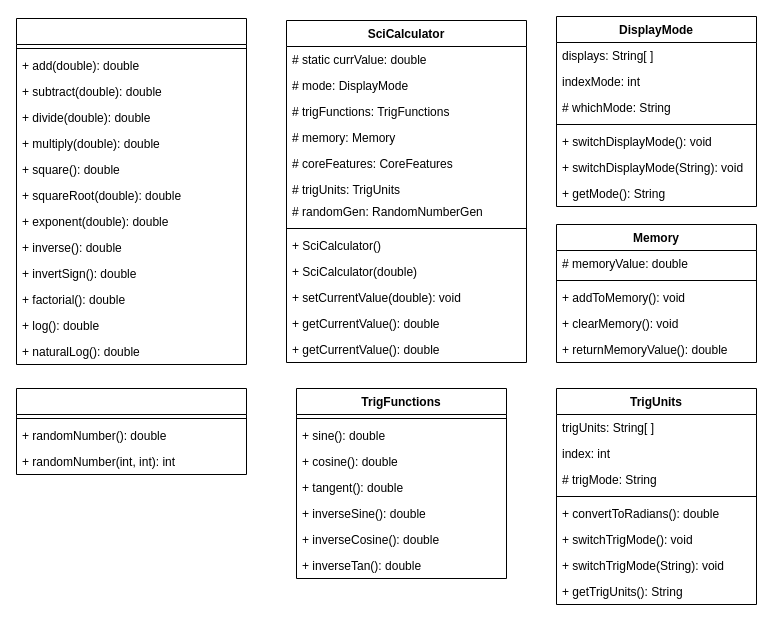
Image size: 773x621. Some labels were removed from this diagram. Here are the shapes that lost their labels. From the top down, the box of each, then its label:
(16, 18, 246, 364): CoreFeatures
(16, 388, 246, 474): RandomNumberGen
